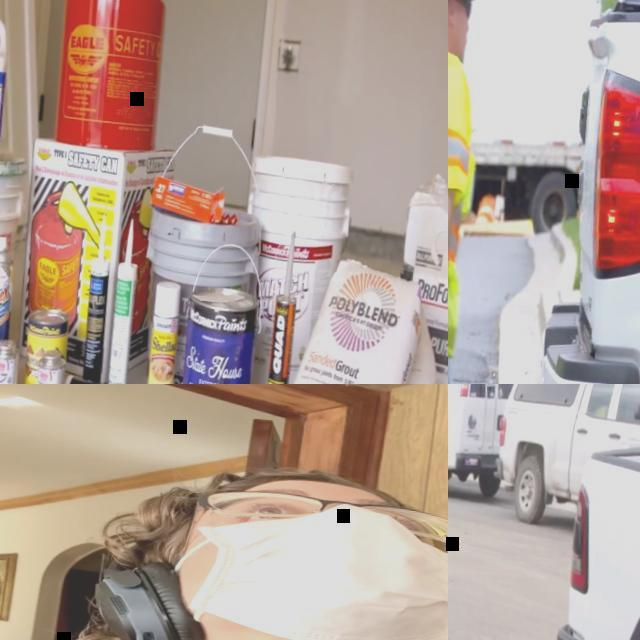mask: (153, 493, 448, 640)
no_helmet: (150, 451, 408, 504)
no_mask: (448, 18, 469, 63)
person: (0, 431, 448, 640), (448, 0, 495, 384)
safety_cone: (474, 196, 494, 223)
vehicle: (465, 0, 640, 384), (489, 384, 640, 536), (533, 430, 640, 640), (448, 384, 523, 501)
vest: (448, 37, 484, 344)
